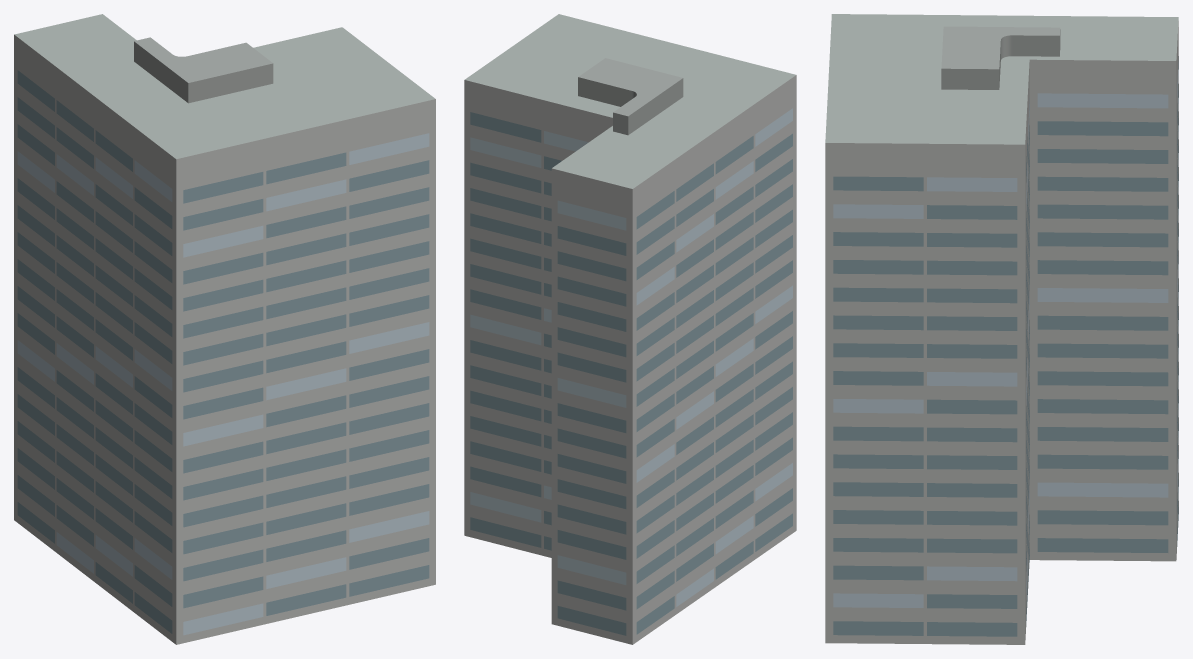
Rendered from apt-a10020729.glb.
The picture shows the model from 3 angles, left to right: view 1: azimuth 30°, elevation 25°; view 2: azimuth 150°, elevation 25°; view 3: azimuth 270°, elevation 25°; orthographic projection. The views are drawn at different scales.
Visible parts, largest first — view 1: apt-a10020729; view 2: apt-a10020729; view 3: apt-a10020729.
Boxes of the visible parts, bbox=[...] form: apt-a10020729: bbox=[14, 14, 435, 644]; apt-a10020729: bbox=[464, 14, 796, 644]; apt-a10020729: bbox=[825, 14, 1178, 644].
Bounding box in the file's own units: 32.32 × 60 × 36.92.
